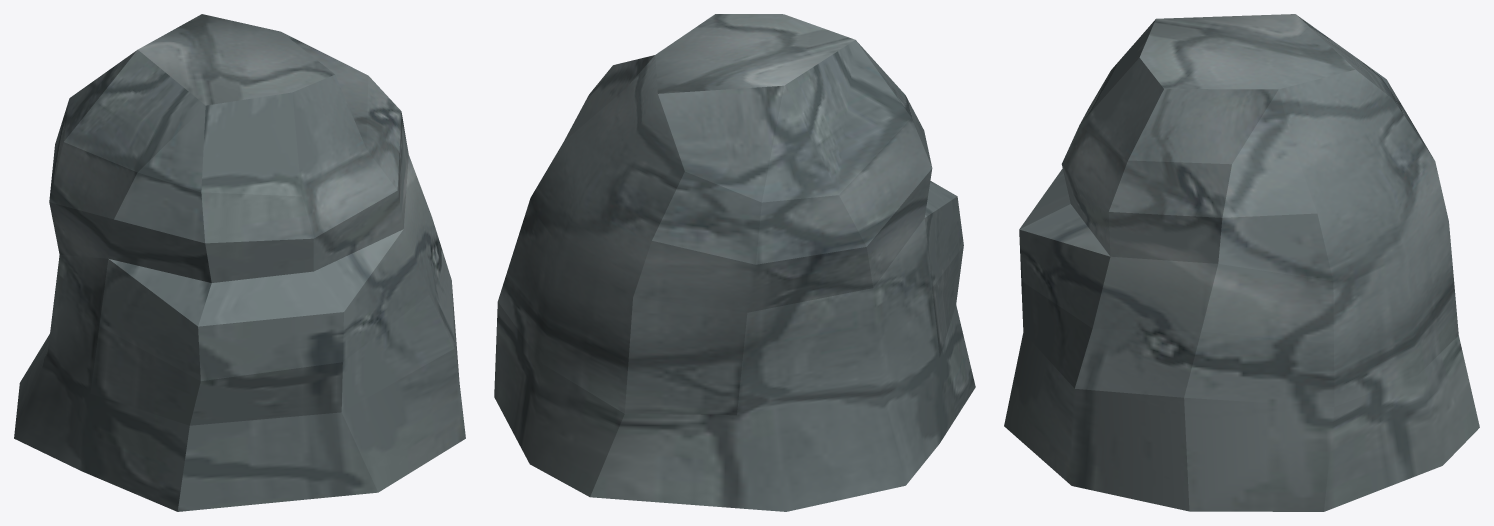
The model's file is desert_stone04.FBX.
3 renders of one model, left to right at view 1: azimuth 30°, elevation 25°; view 2: azimuth 150°, elevation 25°; view 3: azimuth 270°, elevation 25°, orthographic.
Visible parts, largest first — view 1: Line011; view 2: Line011; view 3: Line011.
Part boxes in pixels (bbox=[...]): Line011: bbox=[14, 14, 465, 511]; Line011: bbox=[494, 14, 975, 511]; Line011: bbox=[1004, 14, 1479, 511].
Bounding box in the file's own units: 55.78 × 49.1 × 58.07.
